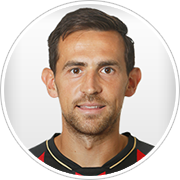face: (38, 45, 143, 122)
